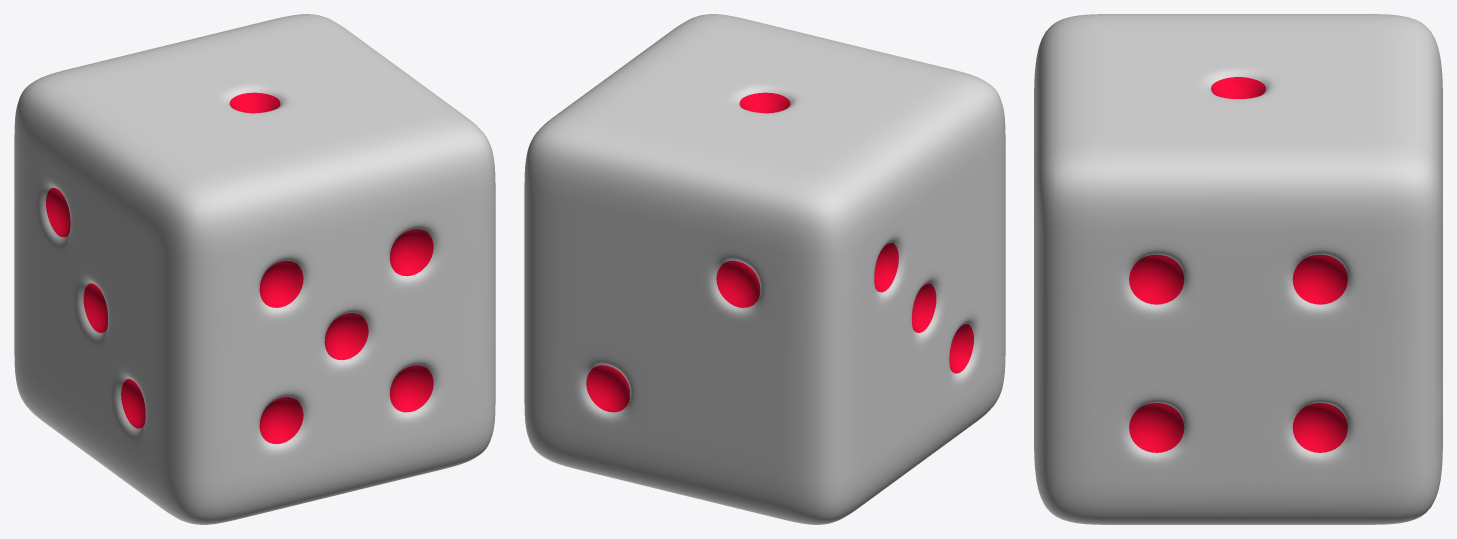
Rendered from dice_test.glb.
3 renders of one model, left to right at view 1: azimuth 30°, elevation 25°; view 2: azimuth 150°, elevation 25°; view 3: azimuth 270°, elevation 25°, orthographic. The views are drawn at different scales.
Visible parts, largest first — view 1: Cube; view 2: Cube; view 3: Cube.
Boxes of the visible parts, box(x1,y1,x2,y2) form: Cube: box(14, 14, 495, 524); Cube: box(524, 14, 1005, 524); Cube: box(1034, 14, 1442, 524).
Bounding box in the file's own units: 2 × 2 × 2.
